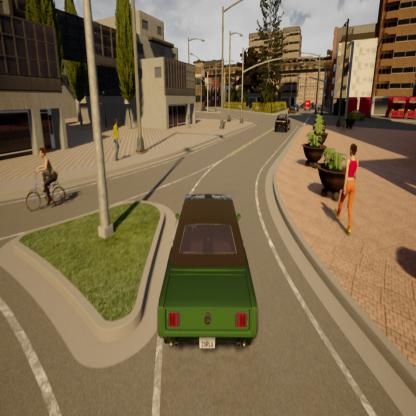Cars: (151, 178, 266, 362), (272, 111, 293, 138), (302, 96, 314, 119), (290, 100, 299, 118)
Pedestrian: (339, 131, 361, 252), (104, 109, 126, 169)
